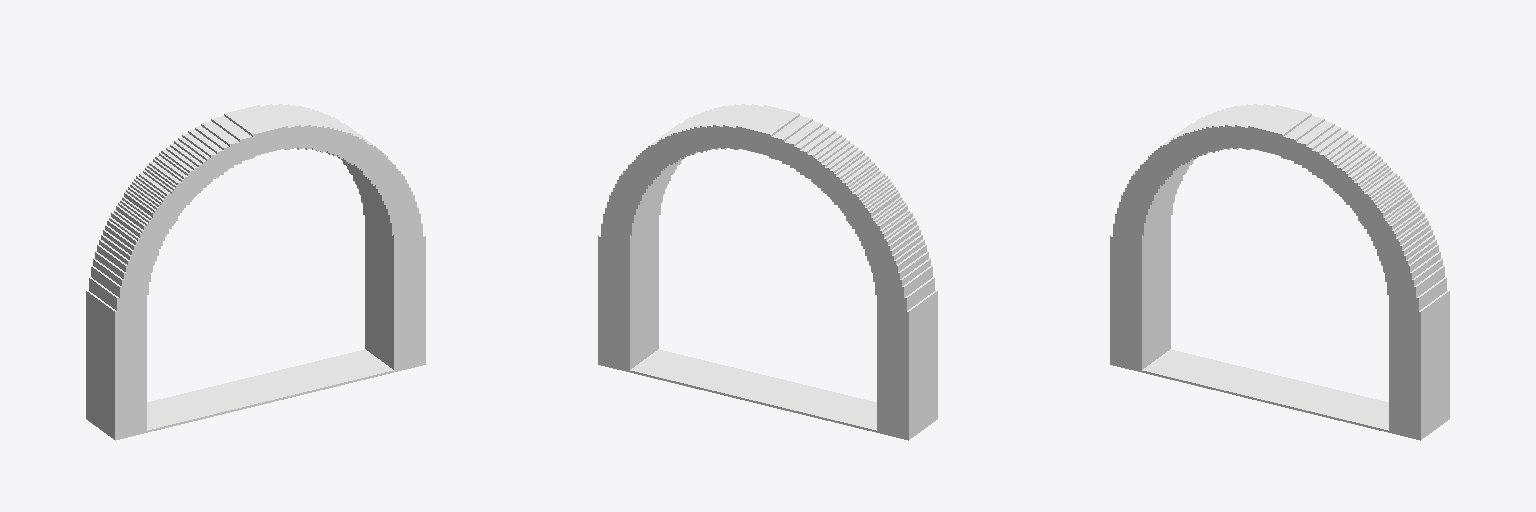
Rendered from Meta.obj.
3 renders of one model, left to right at view 1: azimuth 30°, elevation 25°; view 2: azimuth 150°, elevation 25°; view 3: azimuth 330°, elevation 25°, orthographic.
Parts seen in each view (by area): view 1: object 1; view 2: object 1; view 3: object 1.
Boxes of the visible parts, box(x1,y1,x2,y2) form: object 1: box(86, 104, 425, 440); object 1: box(598, 104, 937, 440); object 1: box(1110, 104, 1449, 440).
Size of the model in its own units: 14.9 by 12.5 by 2.4.